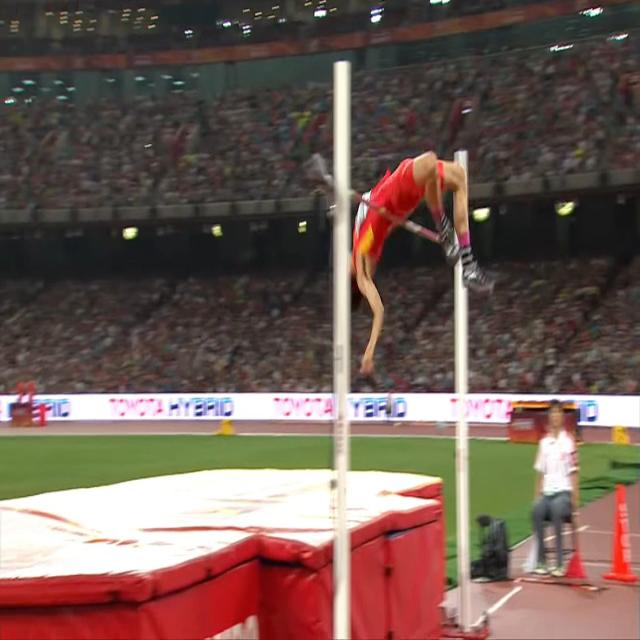jump: (349, 148, 494, 370)
